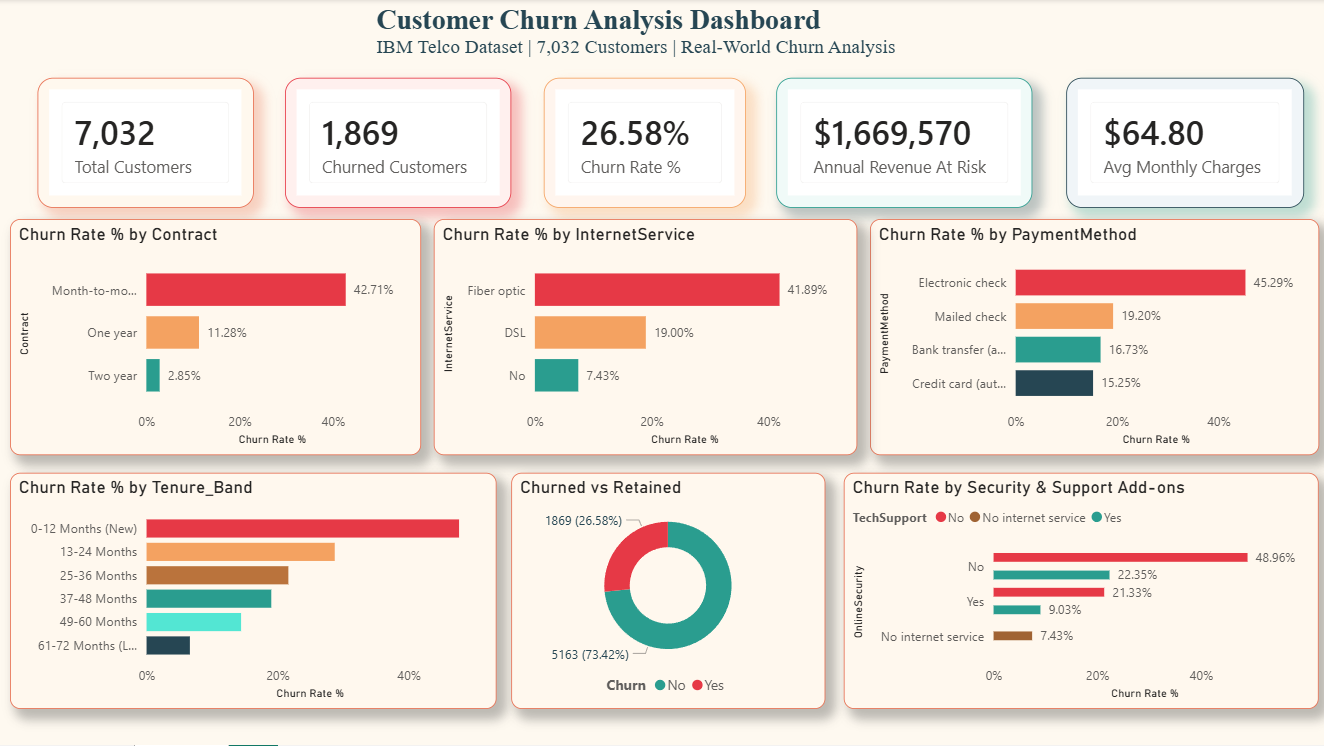

The dashboard page shown, as its layout file describes it:
{"tool":"powerbi","page":{"name":"Page 1","canvas":[1280,720],"ordinal":0},"visuals":[{"type":"textbox","box":[358.3,0,573.1,76],"z":0},{"type":"cardVisual","fields":{"Data":["Customers.Total Customers"]},"box":[36.2,76,208.7,125.5],"z":1000},{"type":"cardVisual","fields":{"Data":["Customers.Churned Customers"]},"box":[275.1,76,218.4,125.5],"z":2000},{"type":"cardVisual","fields":{"Data":["Customers.Churn Rate %"]},"box":[524.8,76,195.4,125.5],"z":3000},{"type":"cardVisual","fields":{"Data":["Customers.Annual Revenue At Risk"]},"box":[749.2,76,247.3,125.5],"z":4000},{"type":"cardVisual","fields":{"Data":["Customers.Avg Monthly Charges"]},"box":[1029.1,76,229.2,125.5],"z":5000},{"type":"barChart","fields":{"Y":["Customers.Churn Rate %"],"Category":["Customers.Contract"]},"box":[9.6,212.7,396.6,227.8],"z":6000},{"type":"barChart","fields":{"Y":["Customers.Churn Rate %"],"Category":["Customers.PaymentMethod"]},"box":[839.8,212.7,433.6,227.8],"z":7000},{"type":"barChart","fields":{"Y":["Customers.Churn Rate %"],"Category":["Customers.InternetService"]},"box":[418.5,212.7,408.9,227.8],"z":8000},{"type":"clusteredBarChart","fields":{"Category":["Customers.Tenure_Band"],"Y":["Customers.Churn Rate %"]},"box":[9.7,457.2,469.3,228],"z":9000},{"type":"donutChart","title":"Churned vs Retained","fields":{"Category":["Customers.Churn"],"Y":["Customers.Total Customers Count"]},"box":[493.4,457.2,302.8,228],"z":10000},{"type":"clusteredBarChart","title":"Churn Rate by Security & Support Add-ons","fields":{"Category":["Customers.OnlineSecurity"],"Y":["Customers.Churn Rate %"],"Series":["Customers.TechSupport"]},"box":[814.3,457.2,458.4,228],"z":11000}]}

Visuals, with their boxes in screenshot pixels (x1, y1, x2, y2), scaled from the page's 1280x720 canvas onto the 1324x746 screenshot:
textbox: <box>371,0,963,79</box>
cardVisual - Customers.Total Customers: <box>37,79,253,209</box>
cardVisual - Customers.Churned Customers: <box>285,79,510,209</box>
cardVisual - Customers.Churn Rate %: <box>543,79,745,209</box>
cardVisual - Customers.Annual Revenue At Risk: <box>775,79,1031,209</box>
cardVisual - Customers.Avg Monthly Charges: <box>1064,79,1302,209</box>
barChart - Customers.Churn Rate % x Customers.Contract: <box>10,220,420,456</box>
barChart - Customers.Churn Rate % x Customers.PaymentMethod: <box>869,220,1317,456</box>
barChart - Customers.Churn Rate % x Customers.InternetService: <box>433,220,856,456</box>
clusteredBarChart - Customers.Tenure_Band x Customers.Churn Rate %: <box>10,474,495,710</box>
"Churned vs Retained" donutChart: <box>510,474,824,710</box>
"Churn Rate by Security & Support Add-ons" clusteredBarChart: <box>842,474,1316,710</box>
